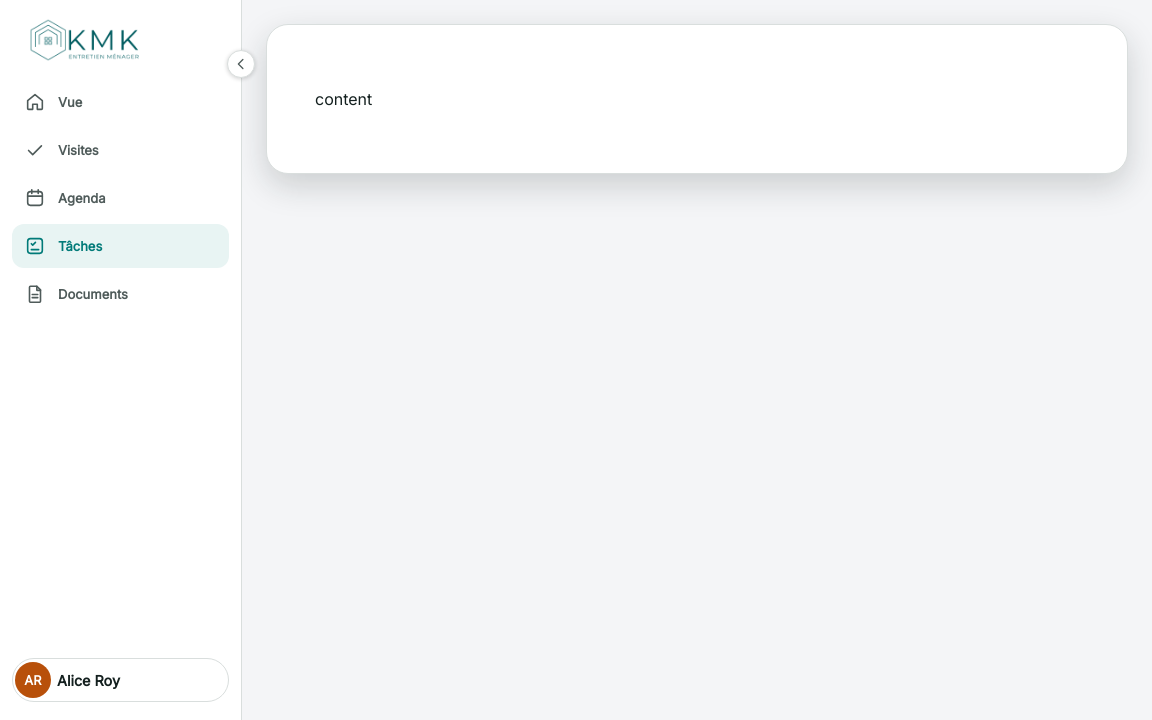
Scenario: Layout › opens the account menu with the pages only: the person's name is not repeated at the top of the panel
The image size is (1152, 720).
Click the button "AR Alice Roy".
click(120, 680)  # box [12,658,229,702]
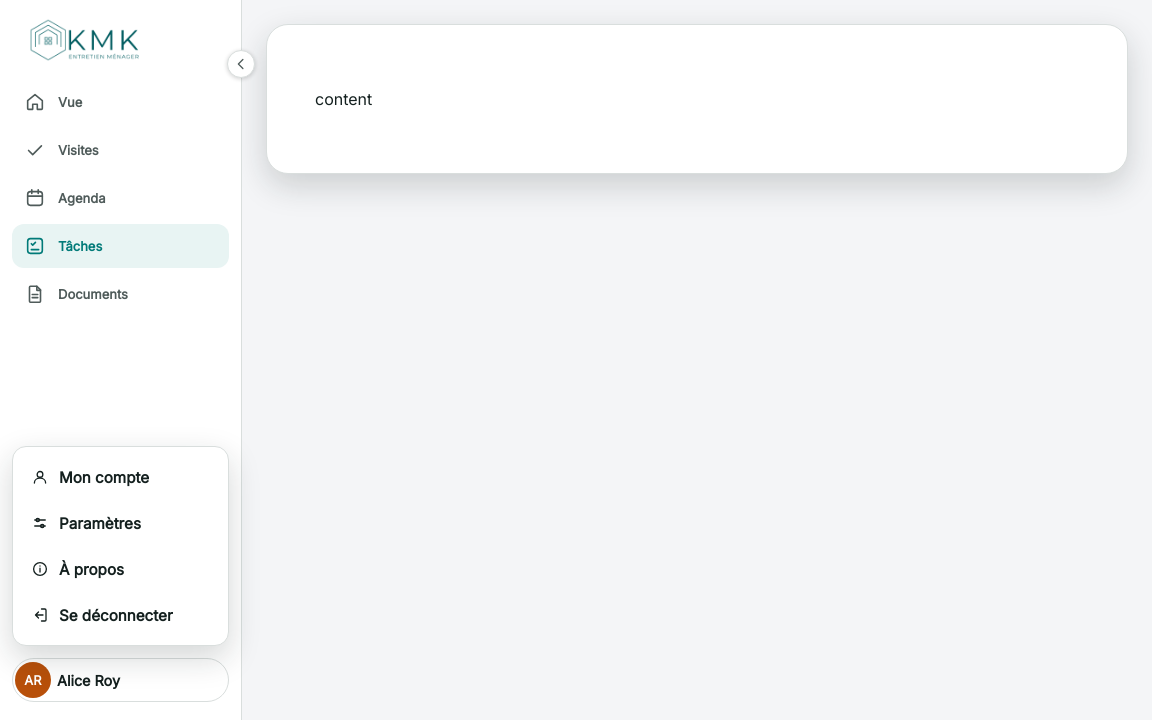
Check: the element with class "accountmenu__panel" does not show "Alice Roy", box [12,446,229,646]
Check: the element with class "accountmenu__panel" is shown, box [12,446,229,646]
Check: the number of links with class "accountmenu__item" is 4, box [31,468,149,486]; [31,514,141,532]; [21,547,220,591]; [21,593,220,637]
